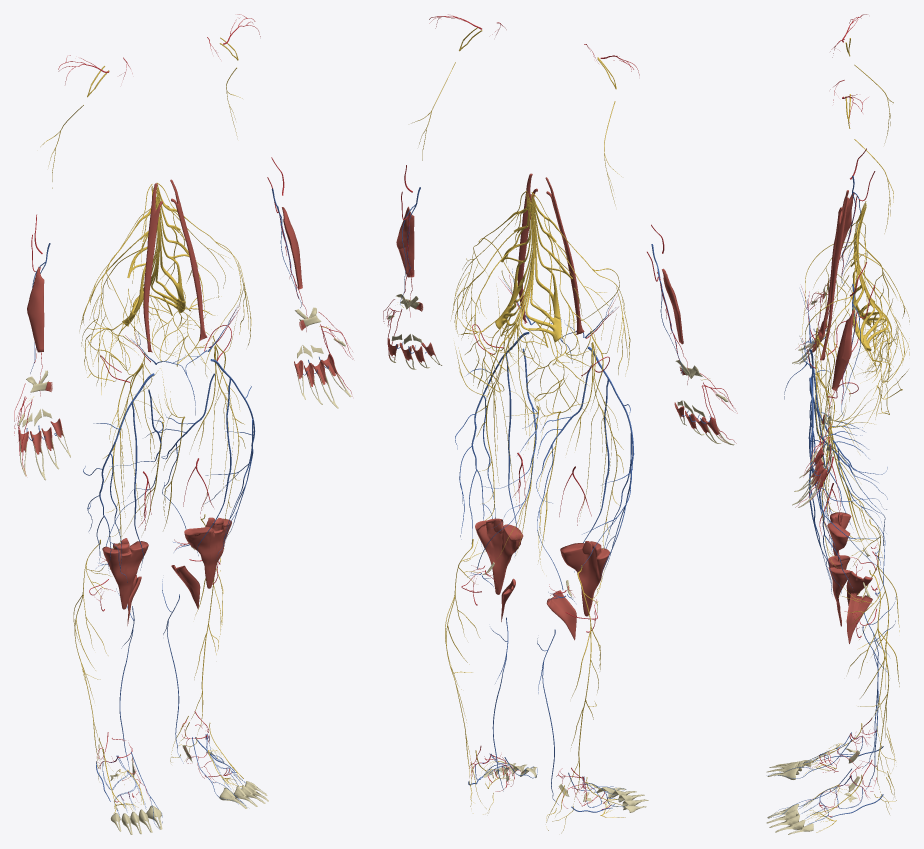
File: extras.glb
3 views of the same model, side by side, from view 1: azimuth 30°, elevation 25°; view 2: azimuth 150°, elevation 25°; view 3: azimuth 270°, elevation 25° (orthographic). The views are drawn at different scales.
Parts seen in each view (by area): view 1: Quadriceps tendon and patellar ligament.r, Quadriceps tendon and patellar ligament.l, Anterior femoral cutaneous vein.r, Psoas minor.r, Muscular branches of femoral nerve.r, Anterior femoral cutaneous vein.l, Flexor digitorum superficialis radial head.r, Muscular branches of femoral nerve.l, Psoas minor.l, Lateral sural cutaneous nerve.r; view 2: Quadriceps tendon and patellar ligament.l, Quadriceps tendon and patellar ligament.r, Anterior femoral cutaneous vein.l, Anterior femoral cutaneous vein.r, Muscular branches of femoral nerve.l, Muscular branches of femoral nerve.r, Flexor digitorum superficialis radial head.l, Psoas minor.r, Lateral sural cutaneous nerve.r, Psoas minor.l, Superior clunial nerves.r, Lateral sural cutaneous nerve.l (+1 smaller); view 3: Anterior femoral cutaneous vein.l, Psoas minor.l, Lateral sural cutaneous nerve.l, Flexor digitorum superficialis radial head.l, Anterior femoral cutaneous vein.r, Quadriceps tendon and patellar ligament.l, Muscular branches of femoral nerve.l, Lateral sural cutaneous nerve.r, Quadriceps tendon and patellar ligament.r, Muscular branches of femoral nerve.r, Pes anserinus.l, Superior clunial nerves.l (+11 smaller).
Part boxes in pixels (bbox=[...]): Quadriceps tendon and patellar ligament.r: bbox=[102, 541, 148, 609]; Quadriceps tendon and patellar ligament.l: bbox=[184, 518, 231, 588]; Anterior femoral cutaneous vein.r: bbox=[83, 373, 154, 582]; Psoas minor.r: bbox=[143, 183, 162, 352]; Muscular branches of femoral nerve.r: bbox=[103, 338, 160, 548]; Anterior femoral cutaneous vein.l: bbox=[197, 359, 255, 560]; Flexor digitorum superficialis radial head.r: bbox=[27, 267, 44, 352]; Muscular branches of femoral nerve.l: bbox=[191, 317, 245, 520]; Psoas minor.l: bbox=[170, 179, 207, 340]; Lateral sural cutaneous nerve.r: bbox=[73, 539, 111, 760]; Quadriceps tendon and patellar ligament.l: bbox=[475, 518, 523, 594]; Quadriceps tendon and patellar ligament.r: bbox=[560, 541, 609, 616]; Anterior femoral cutaneous vein.l: bbox=[455, 332, 529, 555]; Anterior femoral cutaneous vein.r: bbox=[574, 346, 634, 574]; Muscular branches of femoral nerve.l: bbox=[475, 286, 533, 520]; Muscular branches of femoral nerve.r: bbox=[566, 314, 623, 549]; Flexor digitorum superficialis radial head.l: bbox=[396, 206, 414, 277]; Psoas minor.r: bbox=[545, 177, 584, 334]; Lateral sural cutaneous nerve.r: bbox=[567, 564, 607, 804]; Psoas minor.l: bbox=[517, 173, 537, 322]; Superior clunial nerves.r: bbox=[536, 212, 609, 362]; Lateral sural cutaneous nerve.l: bbox=[445, 539, 485, 777]; Anterior femoral cutaneous vein.l: bbox=[808, 377, 881, 594]; Psoas minor.l: bbox=[820, 197, 848, 360]; Lateral sural cutaneous nerve.l: bbox=[839, 570, 899, 792]; Flexor digitorum superficialis radial head.l: bbox=[832, 310, 854, 390]; Anterior femoral cutaneous vein.r: bbox=[808, 349, 881, 554]; Quadriceps tendon and patellar ligament.l: bbox=[827, 555, 851, 626]; Muscular branches of femoral nerve.l: bbox=[814, 355, 839, 567]; Lateral sural cutaneous nerve.r: bbox=[848, 519, 899, 744]; Quadriceps tendon and patellar ligament.r: bbox=[827, 512, 851, 555]; Muscular branches of femoral nerve.r: bbox=[814, 300, 836, 512]; Pes anserinus.l: bbox=[846, 593, 872, 643]; Superior clunial nerves.l: bbox=[853, 227, 909, 371].
Bounding box in the file's own units: 0.6655 × 1.41 × 0.2453.
